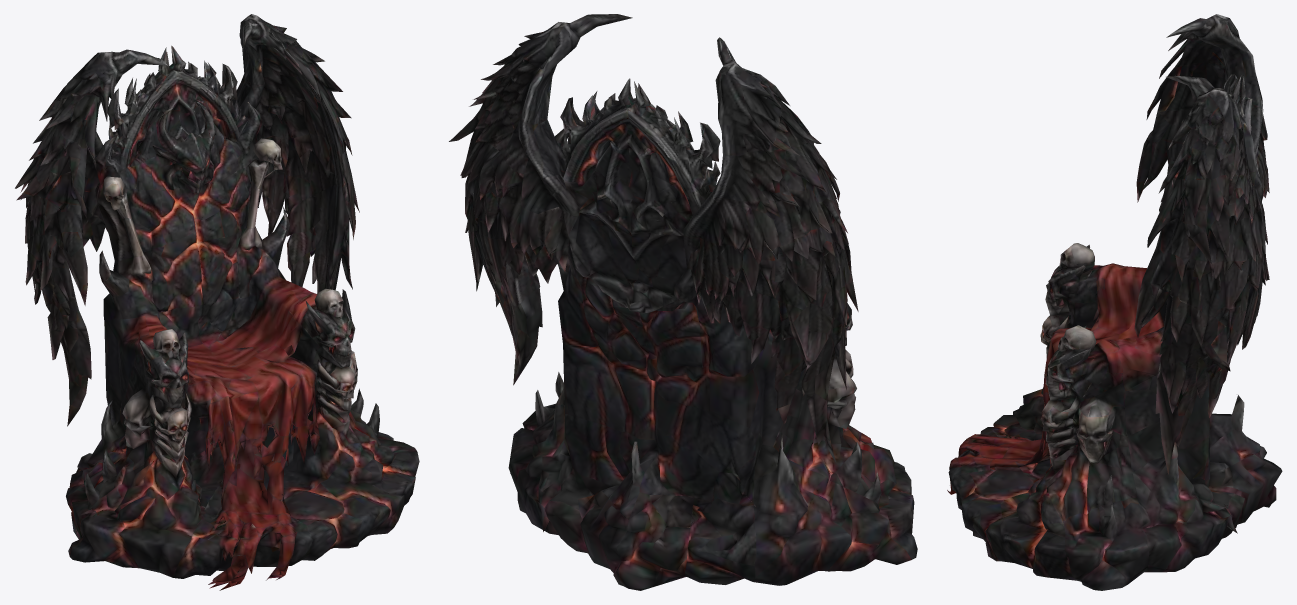
File: chair.glb
The picture shows the model from 3 angles, left to right: view 1: azimuth 30°, elevation 25°; view 2: azimuth 150°, elevation 25°; view 3: azimuth 270°, elevation 25°; orthographic projection. The views are drawn at different scales.
Size of the model in its own units: 1.5 by 1.9 by 1.25.
1 material, 1 textured.
